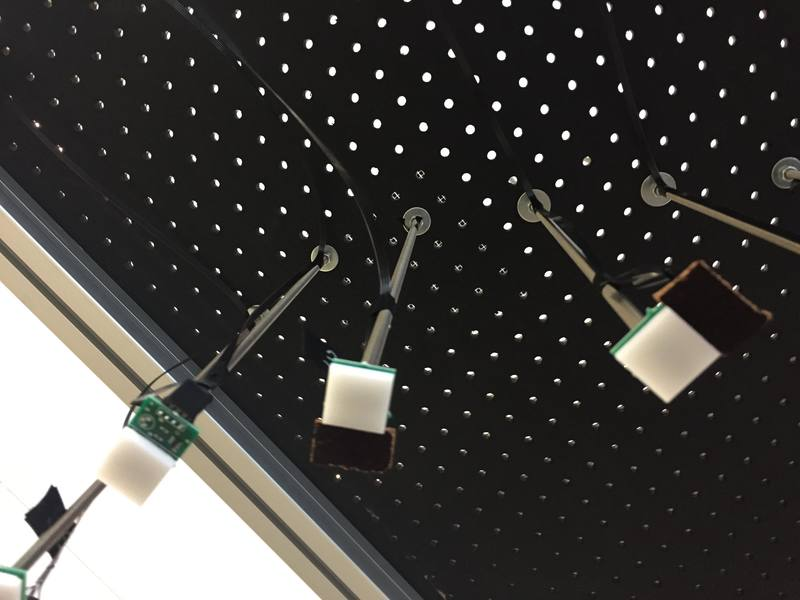target: (611, 300, 723, 415), (93, 428, 178, 509), (322, 359, 394, 433)
